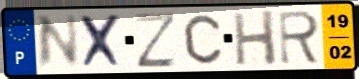C: (181, 12, 224, 66)
H: (230, 9, 279, 67)
N: (35, 13, 82, 72)
R: (277, 8, 323, 66)
X: (78, 12, 126, 69)
Z: (132, 11, 178, 70)
